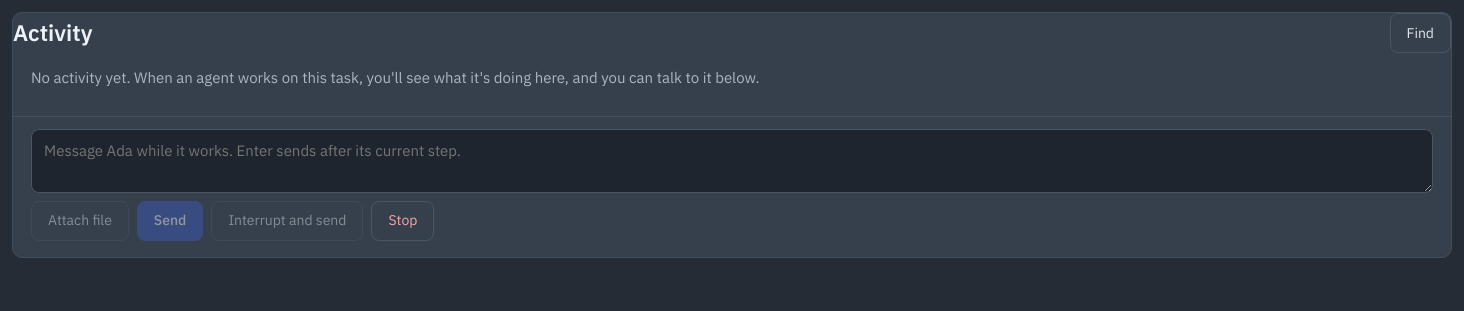
Scenario: stopping one run asks first and sends once (BOS-2162) › ticket page: says the runner is offline when the server ended the run itself
Click the button "Stop" at (403, 220), box [371,200,434,240]
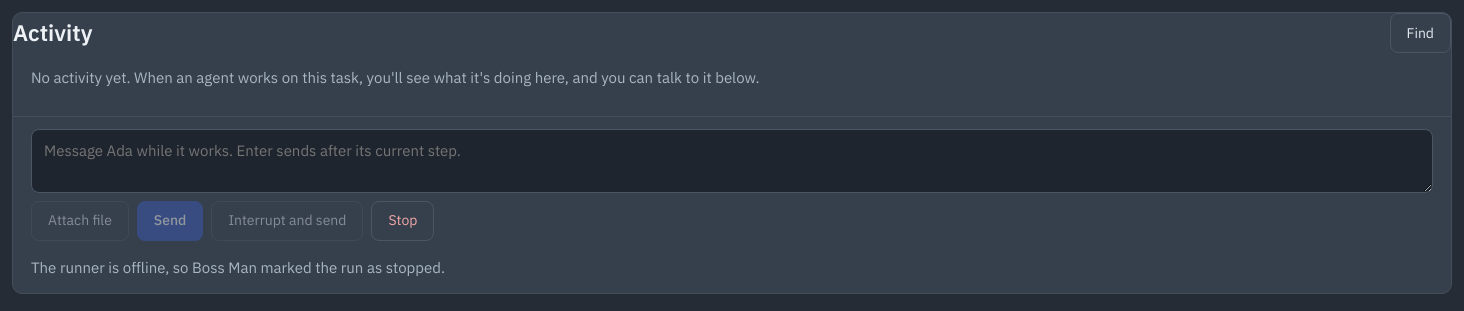
Check: the text "The runner is offline, so Boss Man marked the run as stopped." is shown, box [31,258,445,276]
